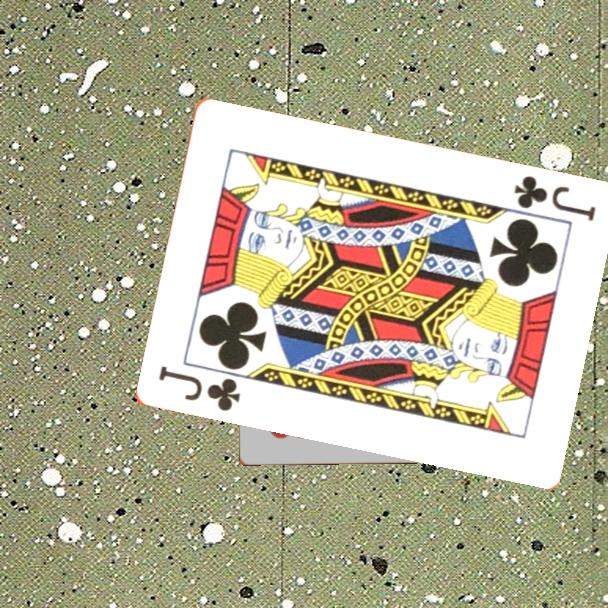c11: (509, 172, 598, 225), (154, 363, 243, 415)
